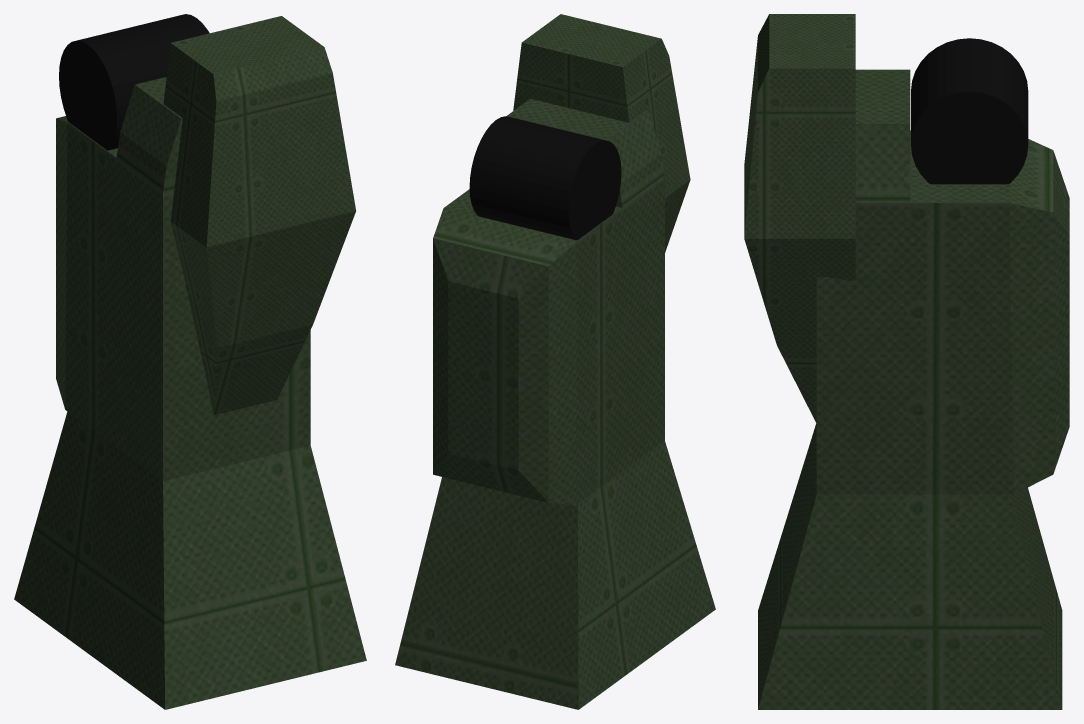
Rendered from pantorrilla_izq.obj.
3 views of the same model, side by side, from view 1: azimuth 30°, elevation 25°; view 2: azimuth 150°, elevation 25°; view 3: azimuth 270°, elevation 25° (orthographic). The views are drawn at different scales.
Visible parts, largest first — view 1: pantorrilla_izq; view 2: pantorrilla_izq; view 3: pantorrilla_izq.
Part boxes in pixels (x1,y1,x2,y2): pantorrilla_izq: (14,14,366,709); pantorrilla_izq: (395,14,715,709); pantorrilla_izq: (744,14,1069,709).
Bounding box in the file's own units: 2 × 5.86 × 2.77.
2 materials, 1 textured.
